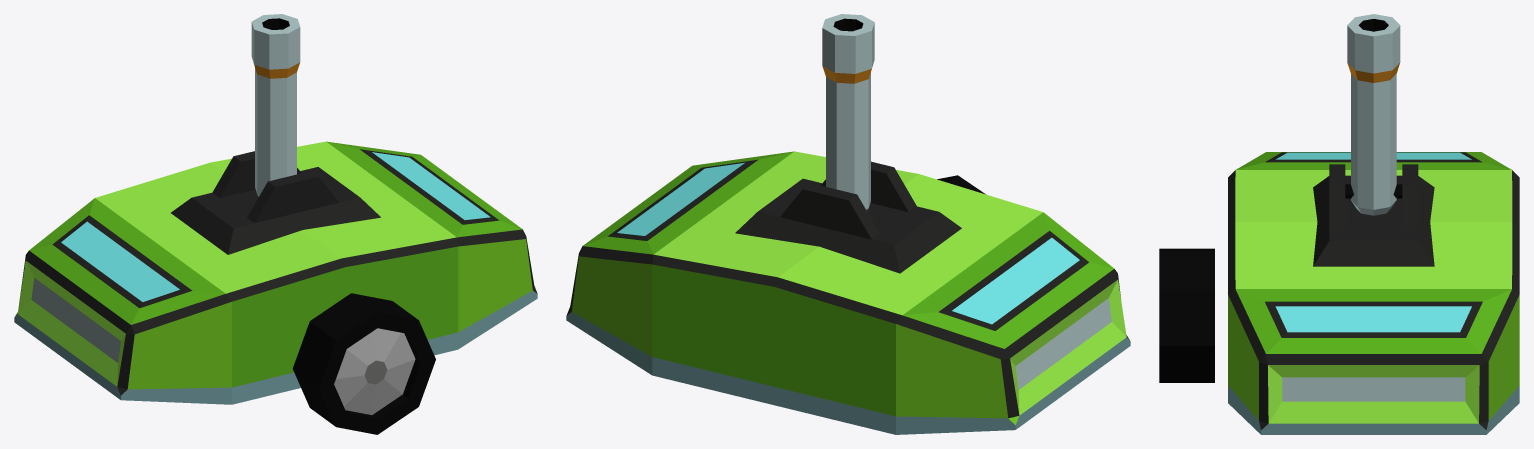
Rendered from tankBolt.fbx.
3 views of the same model, side by side, from view 1: azimuth 30°, elevation 25°; view 2: azimuth 150°, elevation 25°; view 3: azimuth 270°, elevation 25° (orthographic). The views are drawn at different scales.
Visible parts, largest first — view 1: TankBolt, TankBoltWheel, TankBoltMountingPoint, TankBoltBarrel; view 2: TankBolt, TankBoltMountingPoint, TankBoltBarrel; view 3: TankBolt, TankBoltMountingPoint, TankBoltBarrel, TankBoltWheel.
Part boxes in pixels (x1,y1,x2,y2): TankBolt: (14, 141, 537, 404); TankBoltWheel: (292, 293, 435, 434); TankBoltMountingPoint: (171, 151, 380, 254); TankBoltBarrel: (251, 14, 300, 196); TankBolt: (566, 151, 1130, 434); TankBoltMountingPoint: (735, 161, 961, 273); TankBoltBarrel: (822, 14, 874, 210); TankBolt: (1228, 152, 1519, 434); TankBoltMountingPoint: (1313, 164, 1434, 266); TankBoltBarrel: (1347, 14, 1400, 215); TankBoltWheel: (1159, 248, 1214, 382).
Size of the model in its own units: 96.02 by 74.02 by 68.06.
1 material, 1 textured.
